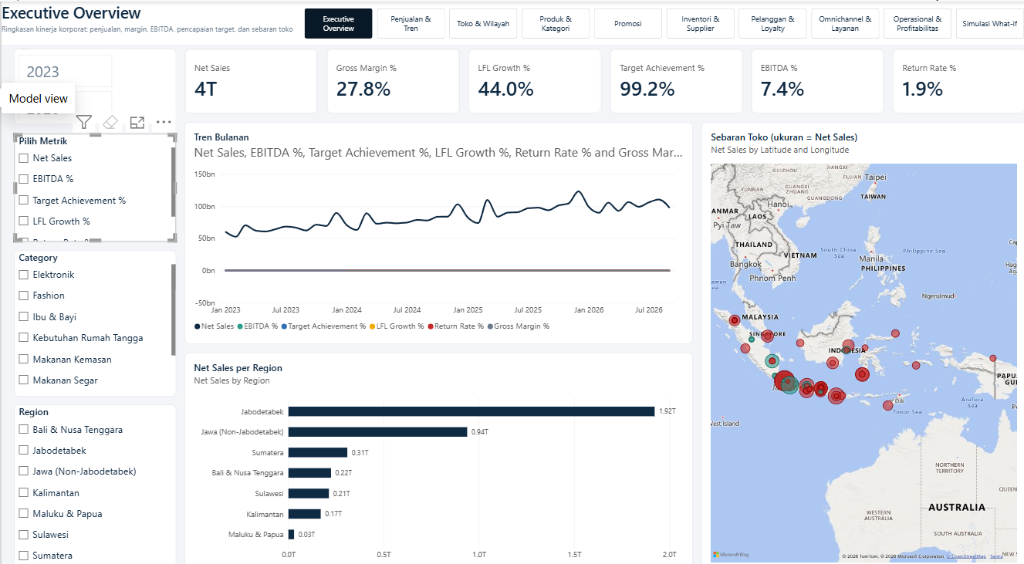

Layout of this report page (visuals, bound fields, positions):
{"tool":"powerbi","page":{"name":"Executive Overview","canvas":[1920,1080],"ordinal":0},"visuals":[{"type":"slicer","fields":{"Values":["Dim_Date.Year"]},"box":[24,88,300,140],"z":0},{"type":"cardVisual","fields":{"Data":["_Measures.Net Sales"]},"box":[340,88,246,120],"z":1000},{"type":"cardVisual","fields":{"Data":["_Measures.Gross Margin %"]},"box":[602,88,246,120],"z":2000},{"type":"cardVisual","fields":{"Data":["_Measures.LFL Growth %"]},"box":[864,88,246,120],"z":3000},{"type":"cardVisual","fields":{"Data":["_Measures.Target Achievement %"]},"box":[1126,88,246,120],"z":4000},{"type":"cardVisual","fields":{"Data":["_Measures.EBITDA %"]},"box":[1388,88,246,120],"z":5000},{"type":"cardVisual","fields":{"Data":["_Measures.Return Rate %"]},"box":[1650,88,246,120],"z":6000},{"type":"lineChart","title":"Tren Bulanan","fields":{"Category":["Dim_Date.YearMonth"],"Y":["_Measures.Net Sales"]},"box":[340,224,940,410],"z":7000},{"type":"map","title":"Sebaran Toko (ukuran = Net Sales)","fields":{"Size":["_Measures.Net Sales"],"X":["Dim_Store.Longitude"],"Y":["Dim_Store.Latitude"]},"box":[1296,224,600,832],"z":8000},{"type":"textbox","box":[0,0,1920,80],"z":9000},{"type":"slicer","fields":{"Values":["Pilih Metrik.Pilih Metrik"]},"box":[24,244,300,200],"z":9000},{"type":"pageNavigator","box":[560,12,1336,56],"z":9100},{"type":"slicer","fields":{"Values":["Dim_Category.Category"]},"box":[24,460,300,270],"z":10000},{"type":"clusteredBarChart","title":"Net Sales per Region","fields":{"Category":["Dim_Store.Region"],"Y":["_Measures.Net Sales"]},"box":[340,650,940,406],"z":11000},{"type":"slicer","fields":{"Values":["Dim_Store.Region"]},"box":[24,746,300,310],"z":12000}]}

Visuals, with their boxes on the page's 1920x1080 design canvas (x1, y1, x2, y2). These are canvas units, not pixel positions in the 1024x564 screenshot, which may show the page scaled, cropped or inside an application window:
slicer - Dim_Date.Year: (24,88,324,228)
cardVisual - _Measures.Net Sales: (340,88,586,208)
cardVisual - _Measures.Gross Margin %: (602,88,848,208)
cardVisual - _Measures.LFL Growth %: (864,88,1110,208)
cardVisual - _Measures.Target Achievement %: (1126,88,1372,208)
cardVisual - _Measures.EBITDA %: (1388,88,1634,208)
cardVisual - _Measures.Return Rate %: (1650,88,1896,208)
"Tren Bulanan" lineChart: (340,224,1280,634)
"Sebaran Toko (ukuran = Net Sales)" map: (1296,224,1896,1056)
textbox: (0,0,1920,80)
slicer - Pilih Metrik.Pilih Metrik: (24,244,324,444)
pageNavigator: (560,12,1896,68)
slicer - Dim_Category.Category: (24,460,324,730)
"Net Sales per Region" clusteredBarChart: (340,650,1280,1056)
slicer - Dim_Store.Region: (24,746,324,1056)
